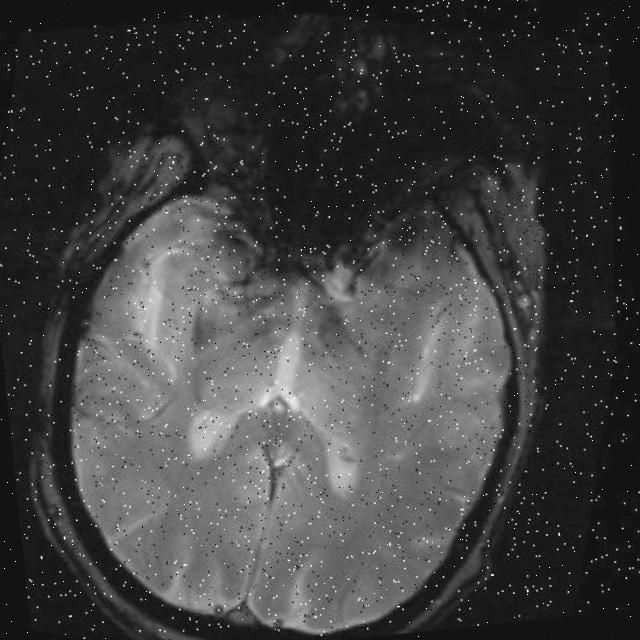LMCI: (181, 186, 289, 295)
MCI: (383, 190, 455, 292)
